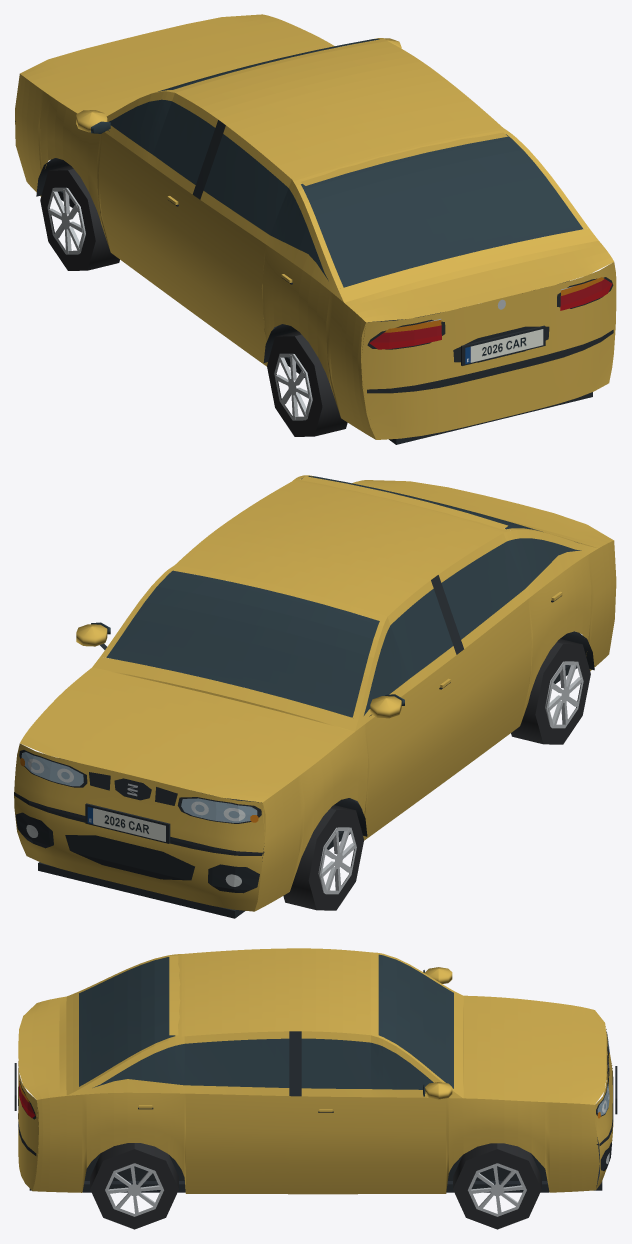
File: Entrega_15_LOD2.glb
3 views of the same model, one above another, from view 1: azimuth 30°, elevation 25°; view 2: azimuth 150°, elevation 25°; view 3: azimuth 270°, elevation 25° (orthographic). The views are drawn at different scales.
Parts seen in each view (by area): view 1: Body, Glass, Wheel_RL, Wheel_FL, Plates, BrakeLights, TailLights; view 2: Body, Glass, Wheel_FL, Wheel_RL, Headlights, Plates; view 3: Body, Glass, Wheel_RR, Wheel_FR.
Part boxes in pixels (<box>): Body: <box>15,14,616,444</box>; Glass: <box>91,38,583,287</box>; Wheel_RL: <box>267,331,347,436</box>; Wheel_FL: <box>40,165,119,270</box>; Plates: <box>465,329,543,364</box>; BrakeLights: <box>370,279,611,342</box>; TailLights: <box>369,283,612,349</box>; Body: <box>14,475,616,918</box>; Glass: <box>91,476,581,717</box>; Wheel_FL: <box>283,805,363,910</box>; Wheel_RL: <box>511,639,590,744</box>; Headlights: <box>21,752,257,886</box>; Plates: <box>87,807,165,841</box>; Body: <box>14,948,617,1194</box>; Glass: <box>79,954,453,1096</box>; Wheel_RR: <box>90,1143,178,1229</box>; Wheel_FR: <box>453,1143,541,1229</box>.
Size of the model in its own units: 2.06 by 1.46 by 4.18.
11 materials, 1 textured.
